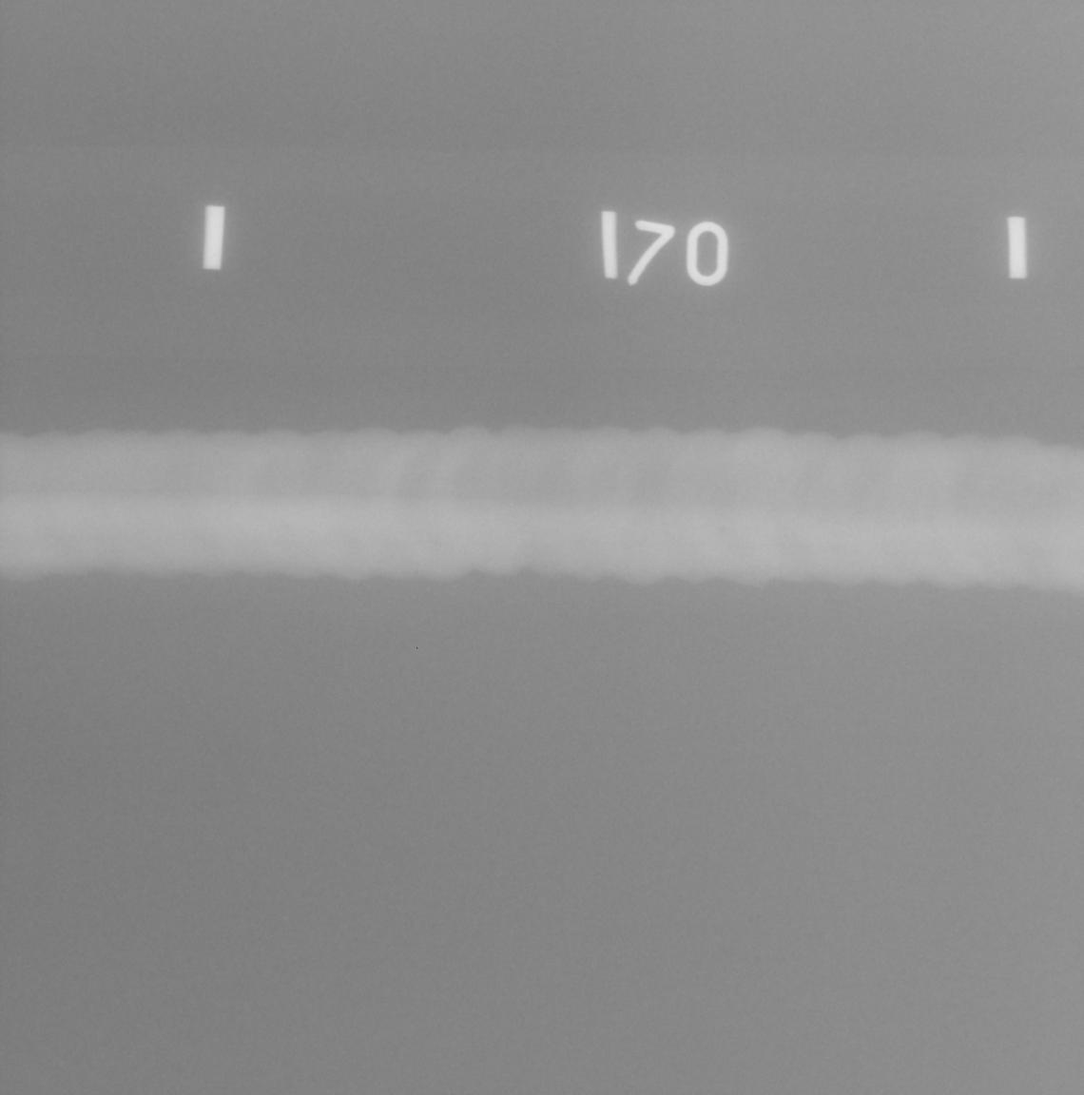Pore/Porosity: (719, 526, 726, 533)
